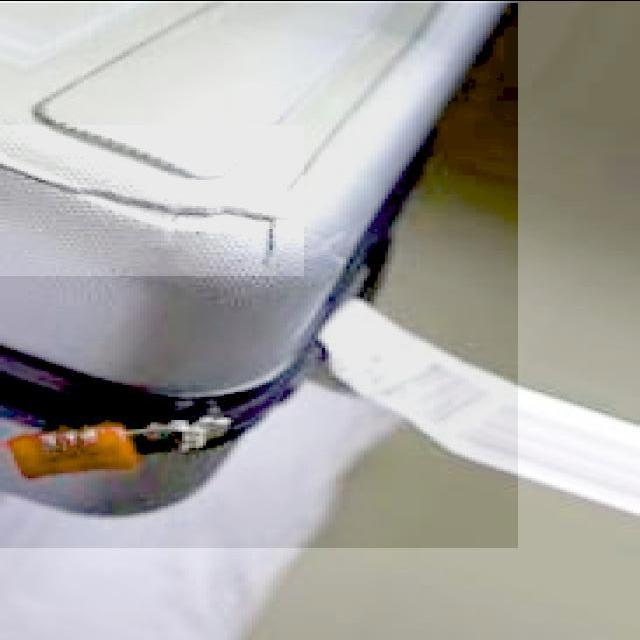Damage-bag: (0, 164, 288, 257)
